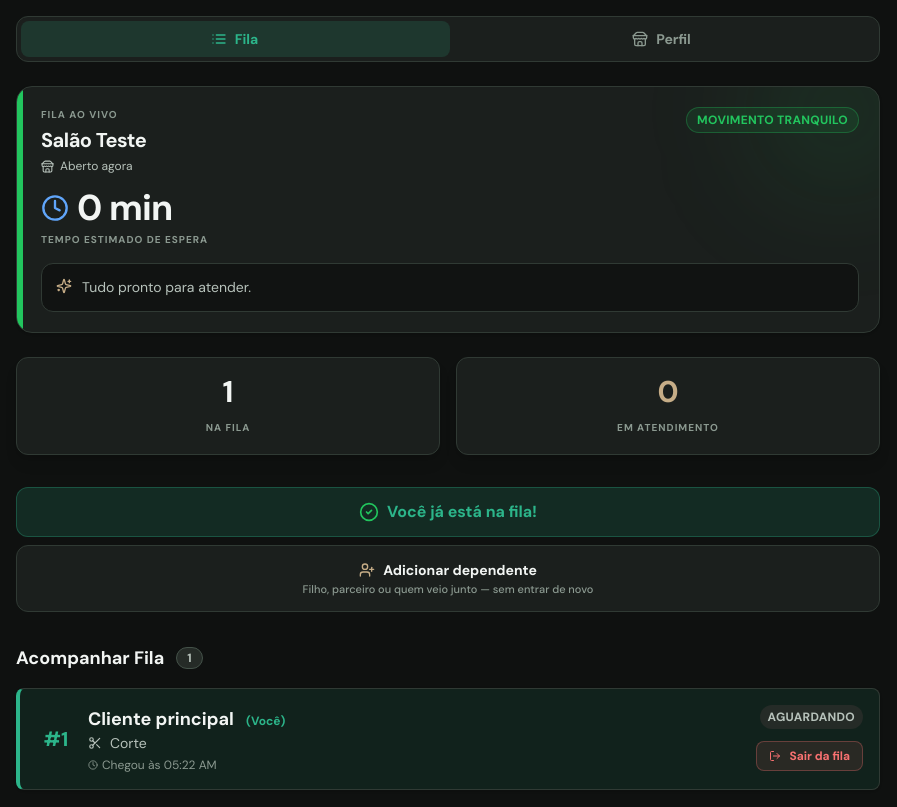
Scenario: PublicHome — carrossel de produtos › mostra os produtos pela aba Perfil quando o salão é só com fila (QUEUE_ONLY)
This screenshot has width=897, height=807.
What coordinates should you click on to do the following:
click the button "Perfil"
I would click on:
 (662, 39)
Its box is [448, 21, 875, 57].
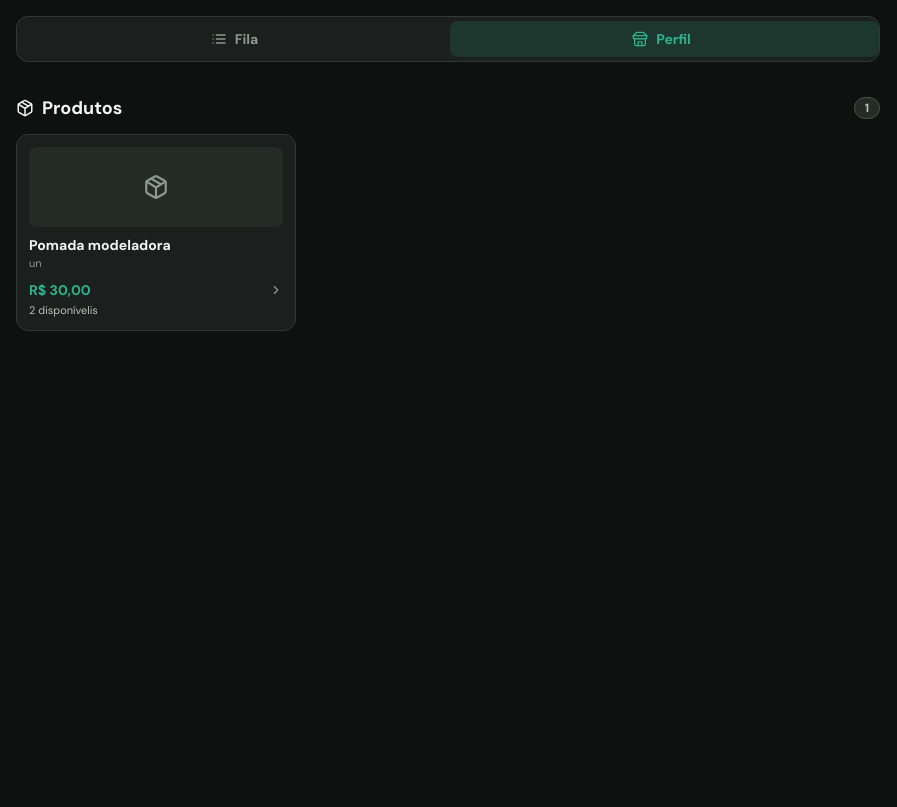
Now the element named "Produtos para reserva" is shown, box [16, 94, 880, 331]
Now the text "Pomada modeladora" is shown, box [29, 236, 171, 254]
